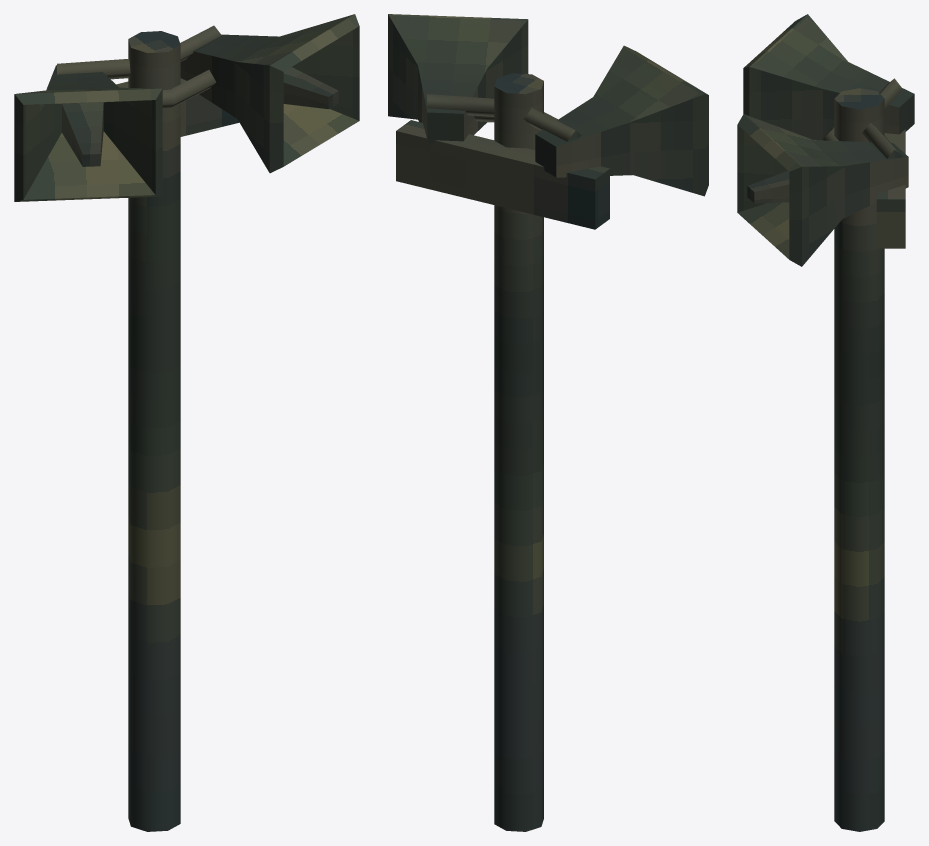
The model's file is pole_03.FBX.
3 views of the same model, side by side, from view 1: azimuth 30°, elevation 25°; view 2: azimuth 150°, elevation 25°; view 3: azimuth 270°, elevation 25° (orthographic). The views are drawn at different scales.
Parts seen in each view (by area): view 1: Cylinder015; view 2: Cylinder015; view 3: Cylinder015.
Part boxes in pixels (x1=…): Cylinder015: x1=14, y1=14, x2=359, y2=831; Cylinder015: x1=388, y1=14, x2=708, y2=831; Cylinder015: x1=737, y1=14, x2=914, y2=831.
Bounding box in the file's own units: 192 × 429 × 94.16.
